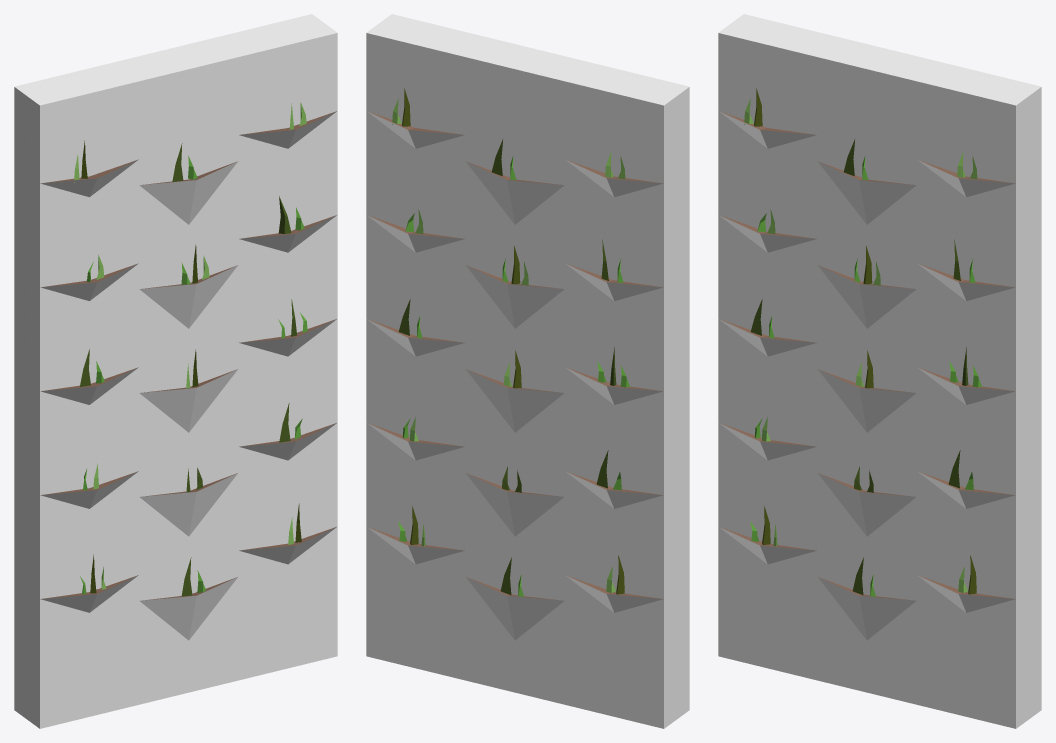
File: PlantWall.glb
3 views of the same model, side by side, from view 1: azimuth 30°, elevation 25°; view 2: azimuth 150°, elevation 25°; view 3: azimuth 330°, elevation 25° (orthographic).
Visible parts, largest first — view 1: wall_garden; view 2: wall_garden; view 3: wall_garden.
Part boxes in pixels (bbox=[...]): wall_garden: bbox=[14, 14, 337, 728]; wall_garden: bbox=[366, 14, 689, 728]; wall_garden: bbox=[718, 14, 1041, 728].
Size of what is drawn, in the model's own units: 2 by 4 by 0.4811.
1 material, 1 textured.
